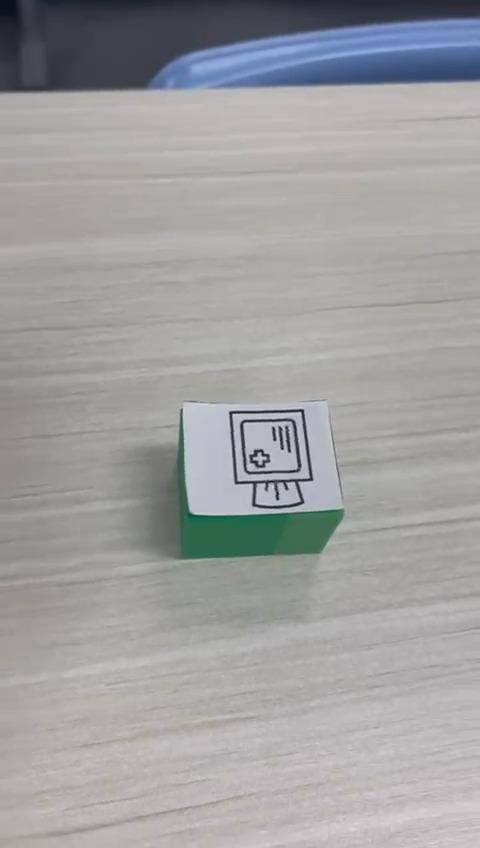Gauze: (175, 397, 345, 559)
